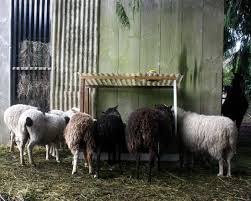sheep: (170, 102, 235, 179), (124, 102, 174, 181), (11, 105, 64, 166), (84, 107, 125, 171), (64, 103, 94, 177)
